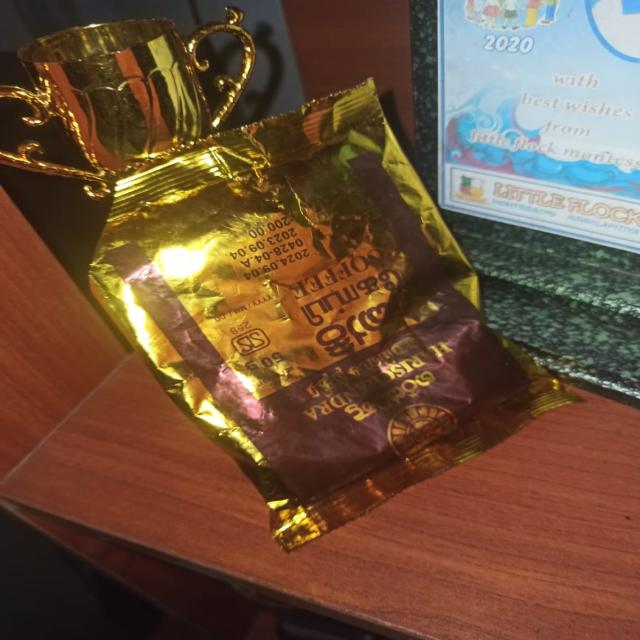Harischandra Coffee: (71, 131, 541, 551)
